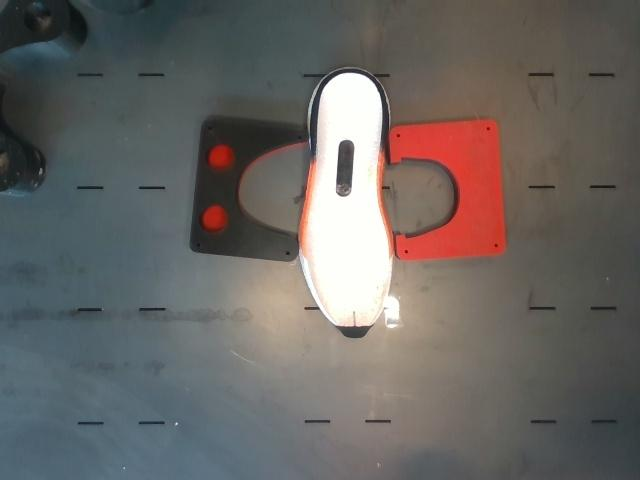shoes: (303, 71, 392, 336)
